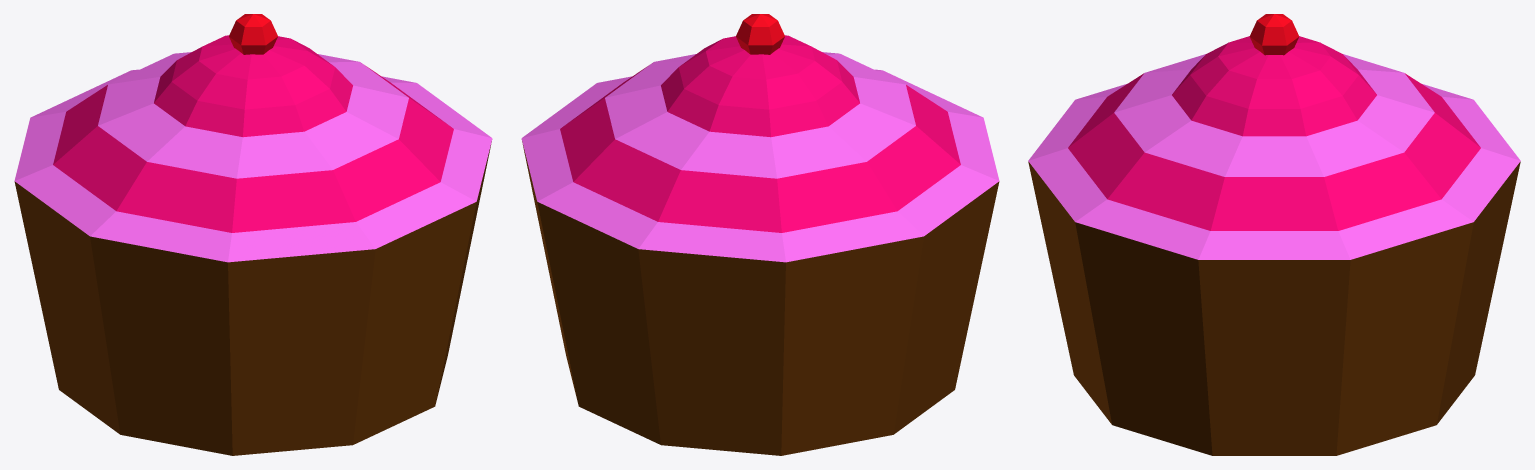
The model's file is Cupcake3.fbx.
3 views of the same model, side by side, from view 1: azimuth 30°, elevation 25°; view 2: azimuth 150°, elevation 25°; view 3: azimuth 270°, elevation 25° (orthographic).
Parts seen in each view (by area): view 1: Cupcake3; view 2: Cupcake3; view 3: Cupcake3.
Part boxes in pixels (left/top/right/bottom): Cupcake3: left=14, top=14, right=492, bottom=455; Cupcake3: left=521, top=14, right=999, bottom=455; Cupcake3: left=1028, top=14, right=1520, bottom=455.
Size of the model in its own units: 17.46 by 14.86 by 18.36.
Materials: 1 (1 with a texture image).
